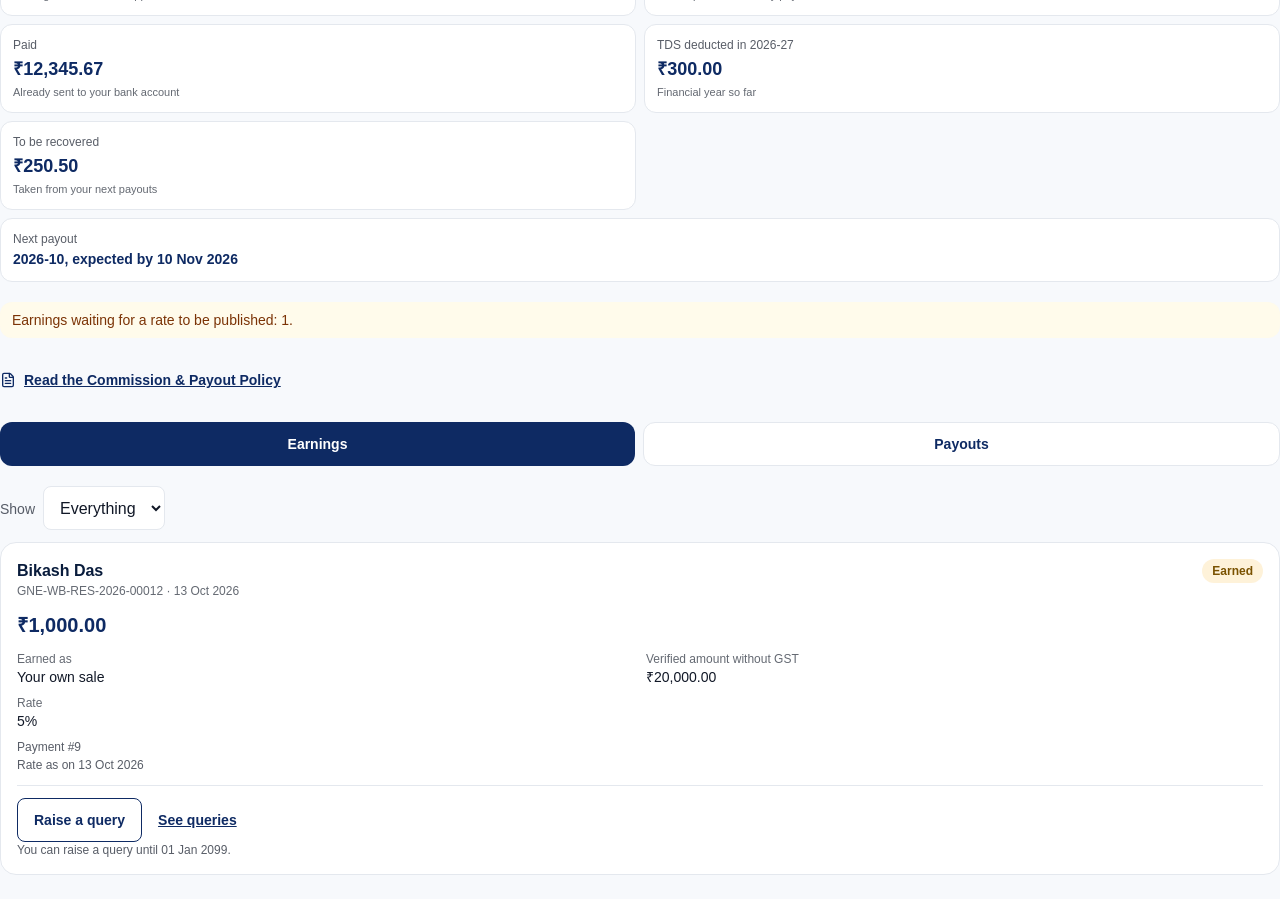
Test case: Raise a query (E3) › an empty message is refused locally, marks the field invalid and focuses it
(page scrolled)
Click the button "Raise a query" at (80, 820), box [17,798,142,842]
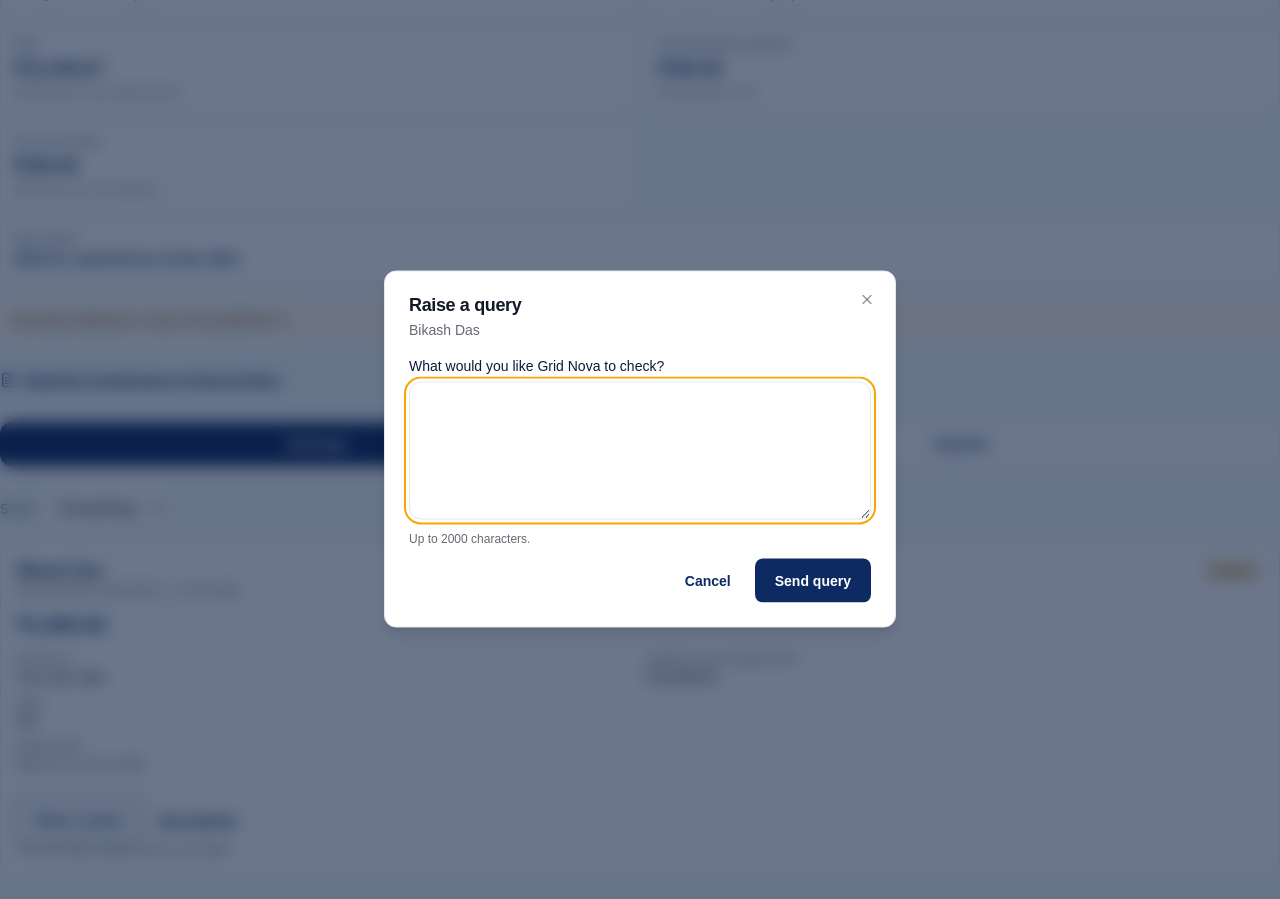
Click the button "Send query" at (813, 580), box [755,558,871,602]
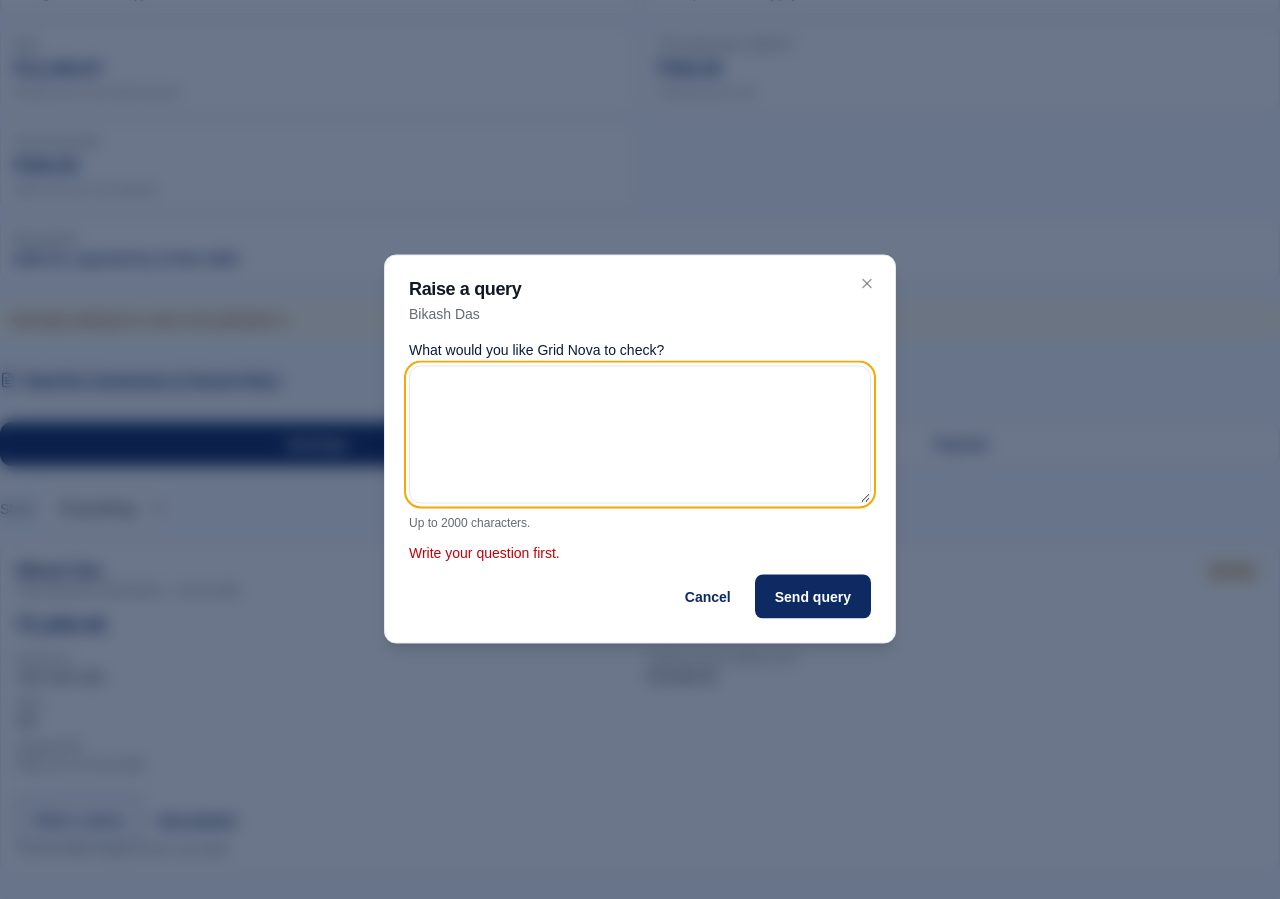
expect the message reads "Write your question first.": met, box [409,544,560,560]
